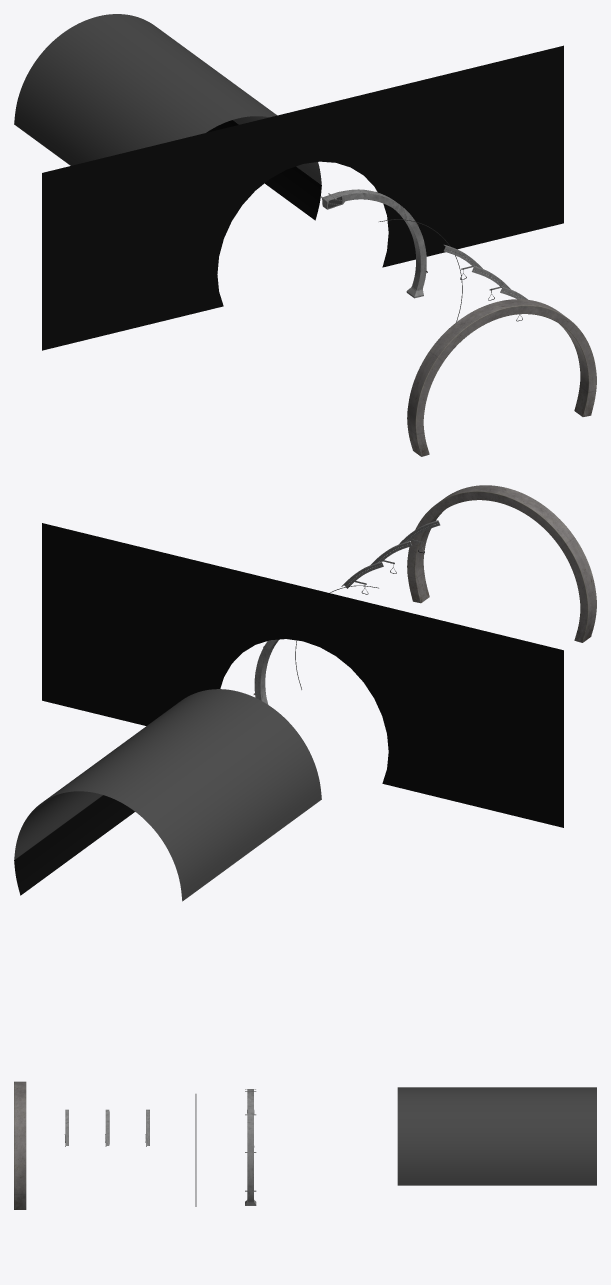
File: modular_tunnel_1k.glb
3 renders of one model, top to bottom at view 1: azimuth 30°, elevation 25°; view 2: azimuth 150°, elevation 25°; view 3: azimuth 270°, elevation 25°, orthographic. The views are drawn at different scales.
Parts seen in each view (by area): view 1: tunnel_wall, tunnel, tunnel_entrance, tunnel_vent, tunnel_cable_holders; view 2: tunnel_wall, tunnel, tunnel_entrance, tunnel_cable_holders, tunnel_vent; view 3: tunnel, tunnel_entrance, tunnel_vent, tunnel_cable_holders.
Boxes of the visible parts, left/top/right/bottom form: tunnel_wall: left=42, top=45, right=563, bottom=350; tunnel: left=14, top=14, right=321, bottom=220; tunnel_entrance: left=407, top=299, right=596, bottom=456; tunnel_vent: left=320, top=189, right=427, bottom=298; tunnel_cable_holders: left=443, top=244, right=527, bottom=321; tunnel_wall: left=42, top=523, right=563, bottom=827; tunnel: left=14, top=689, right=321, bottom=901; tunnel_entrance: left=407, top=485, right=596, bottom=642; tunnel_cable_holders: left=341, top=520, right=440, bottom=594; tunnel_vent: left=253, top=639, right=278, bottom=704; tunnel: left=397, top=1087, right=596, bottom=1185; tunnel_entrance: left=14, top=1081, right=26, bottom=1209; tunnel_vent: left=245, top=1089, right=256, bottom=1205; tunnel_cable_holders: left=64, top=1109, right=149, bottom=1146.
Bounding box in the file's own units: 64 × 20.88 × 86.69.
Materials: 7 (3 with a texture image).
